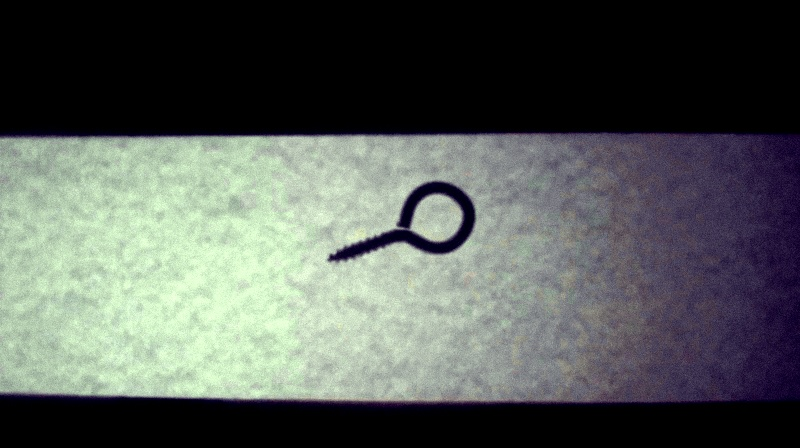O001: (323, 178, 479, 267)
